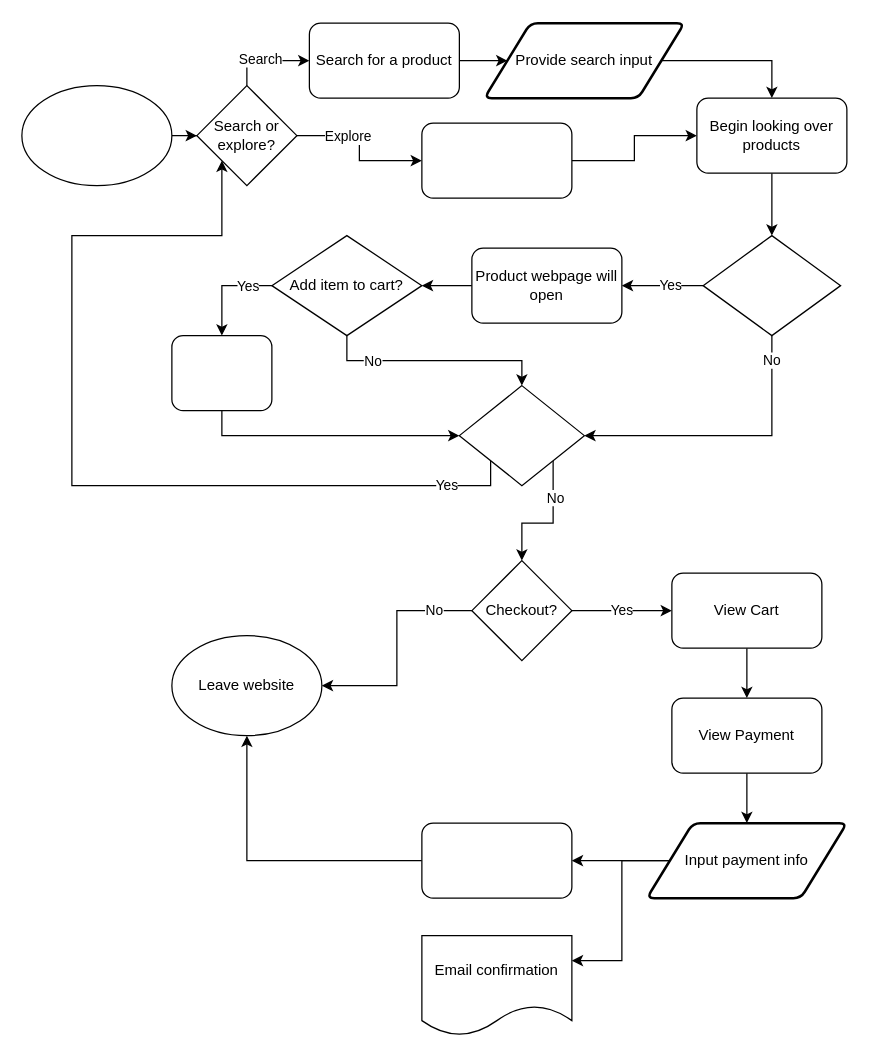
The diagram is 870 pixels wide and 1058 high, and some of its shapes have lost their labels. The centre of each missing label's shape, as x and y in pixels:
"Added to cart confirmation" belongs at point 221,372.
"Continue shopping?" belongs at point 521,435.
"Explore products on home page" belongs at point 496,160.
"Order confirmation" belongs at point 496,860.
"User enters website" belongs at point 96,135.
"View specific product?" belongs at point 771,285.
